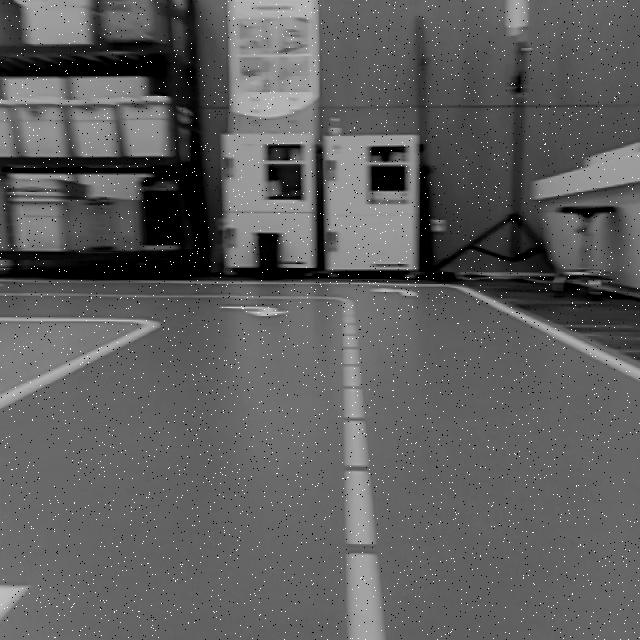left_lane: (343, 297, 383, 640)
right_lane: (456, 287, 638, 380), (0, 323, 163, 412)
